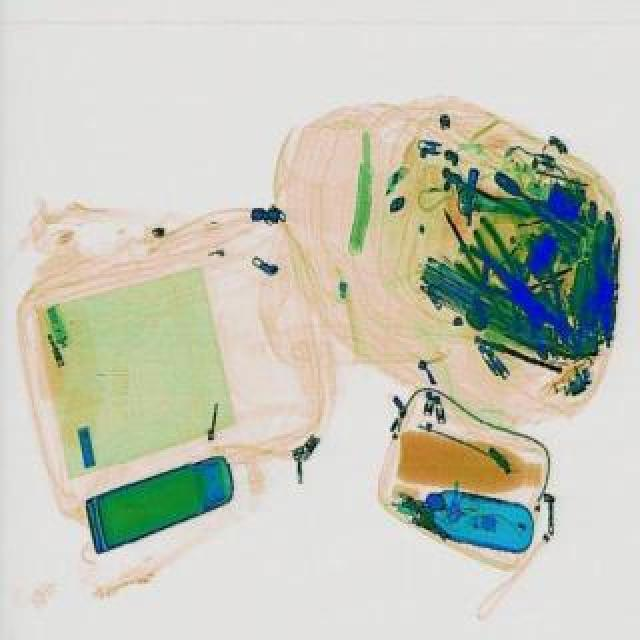wrench: (508, 242, 594, 358), (486, 164, 590, 244), (448, 242, 552, 322)
